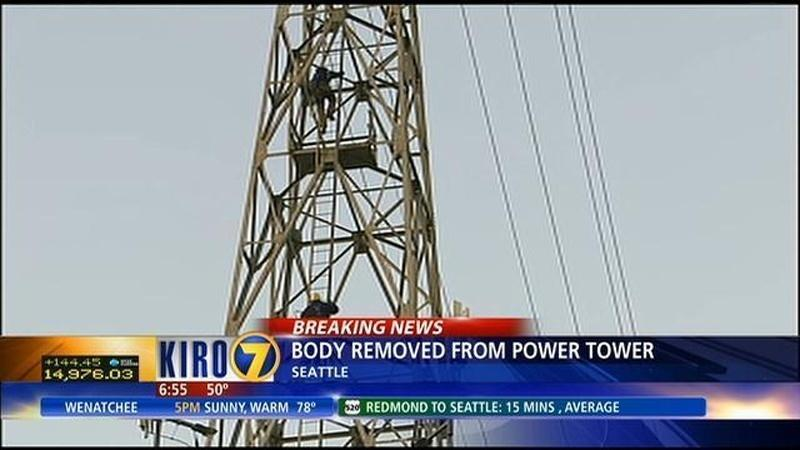power_tower: (209, 2, 448, 313)
